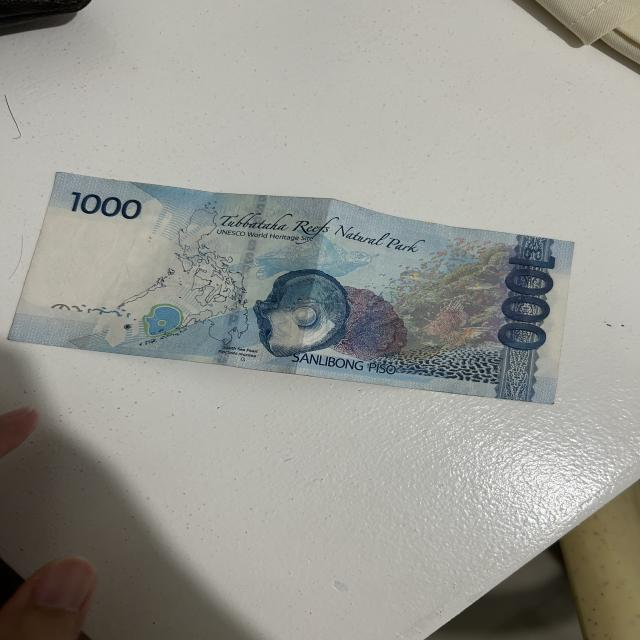1000_pearl: (259, 272, 341, 356)
1000_pearl_watermark: (132, 302, 185, 340)
watermark: (47, 208, 162, 309)
